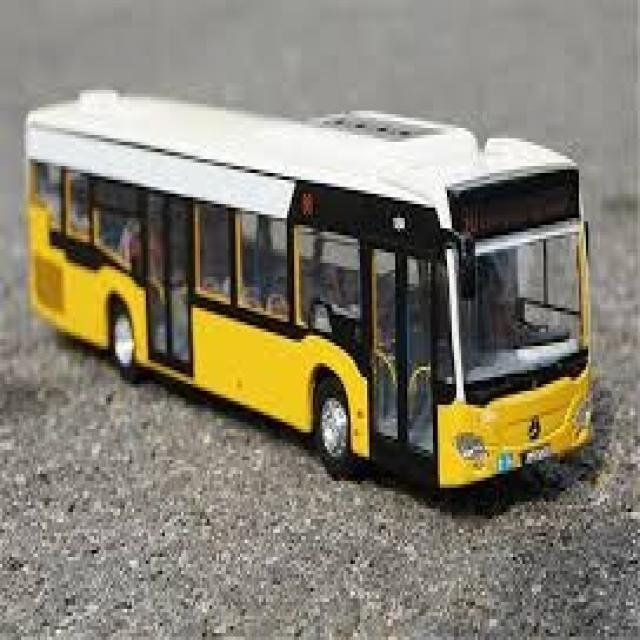bus: (14, 67, 612, 542)
